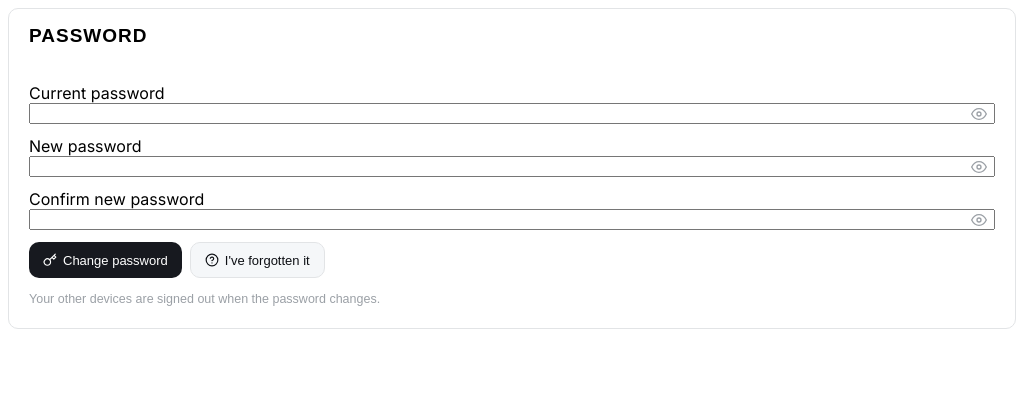
Scenario: PasswordCard forgot-password › backs out without filing anything
The image size is (1024, 420).
Click the button "I've forgotten it": coordinates (257, 260) [190, 242, 325, 278]
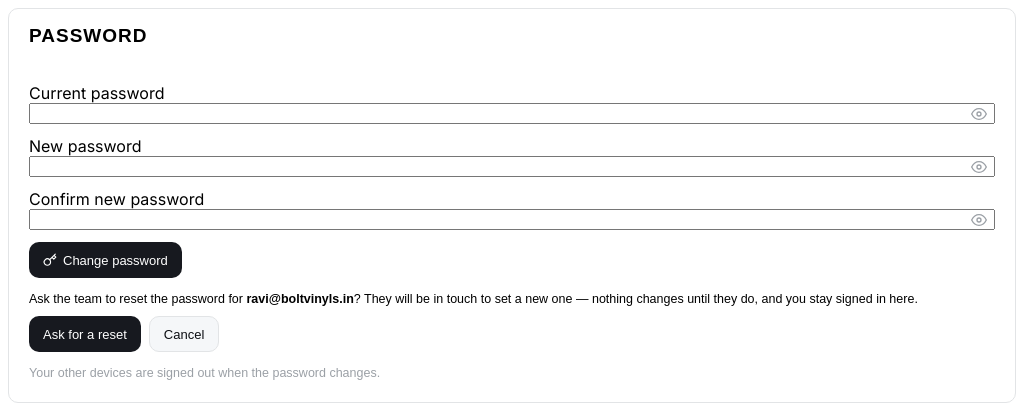
Click the button "Cancel": coordinates (184, 334) [149, 316, 219, 352]
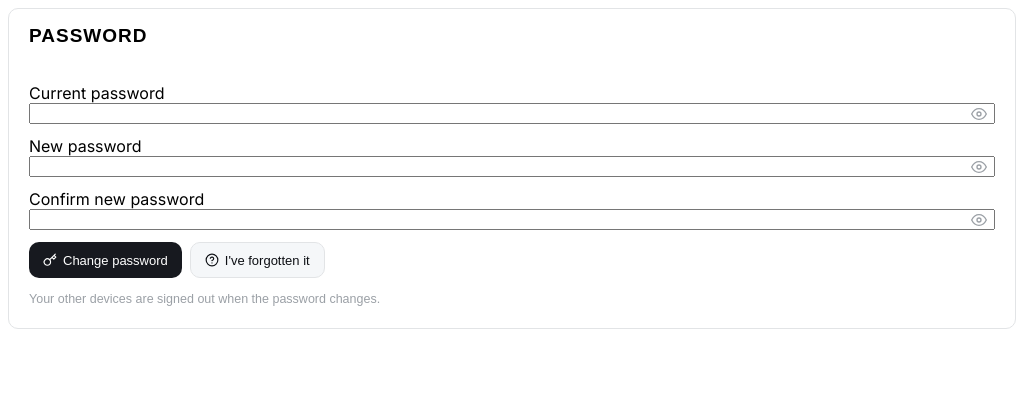
Result: the button "I've forgotten it" is shown at [190, 242, 325, 278]
